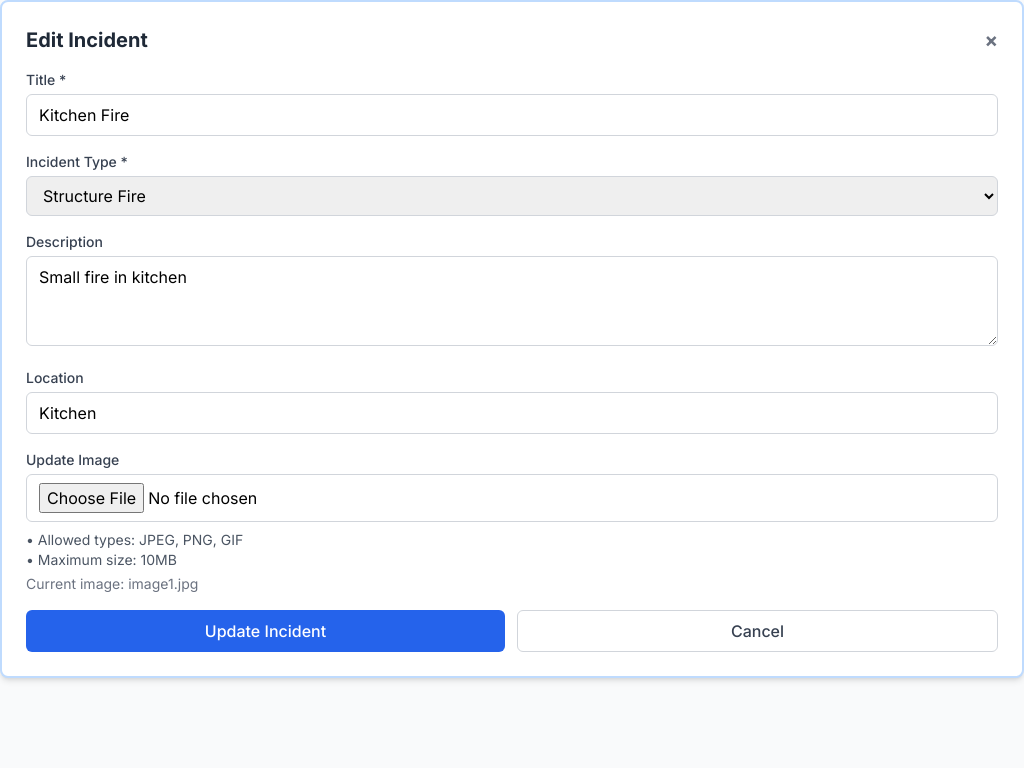
Test: IncidentEditForm › handles submission error
What coordinates should you click on to do the following:
click the button "Update Incident"
I would click on:
 (266, 631)
Its box is x1=26 y1=610 x2=505 y2=652.
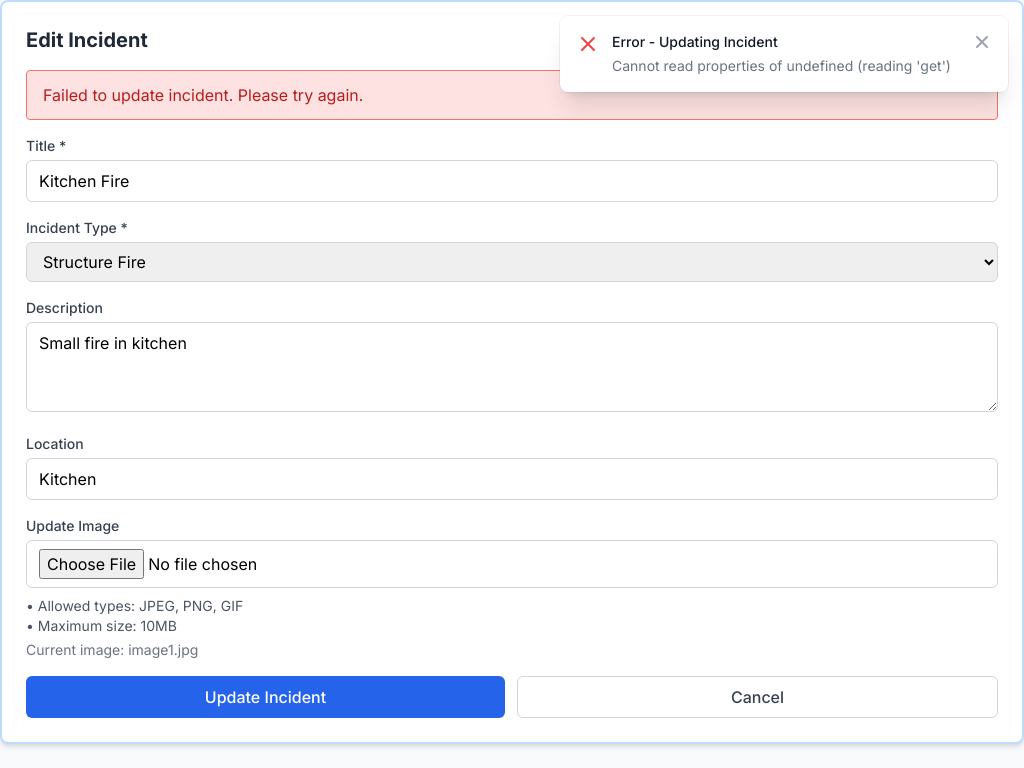
Check: the text "Failed to update incident. Please try again." is shown, box x1=26 y1=70 x2=998 y2=120
